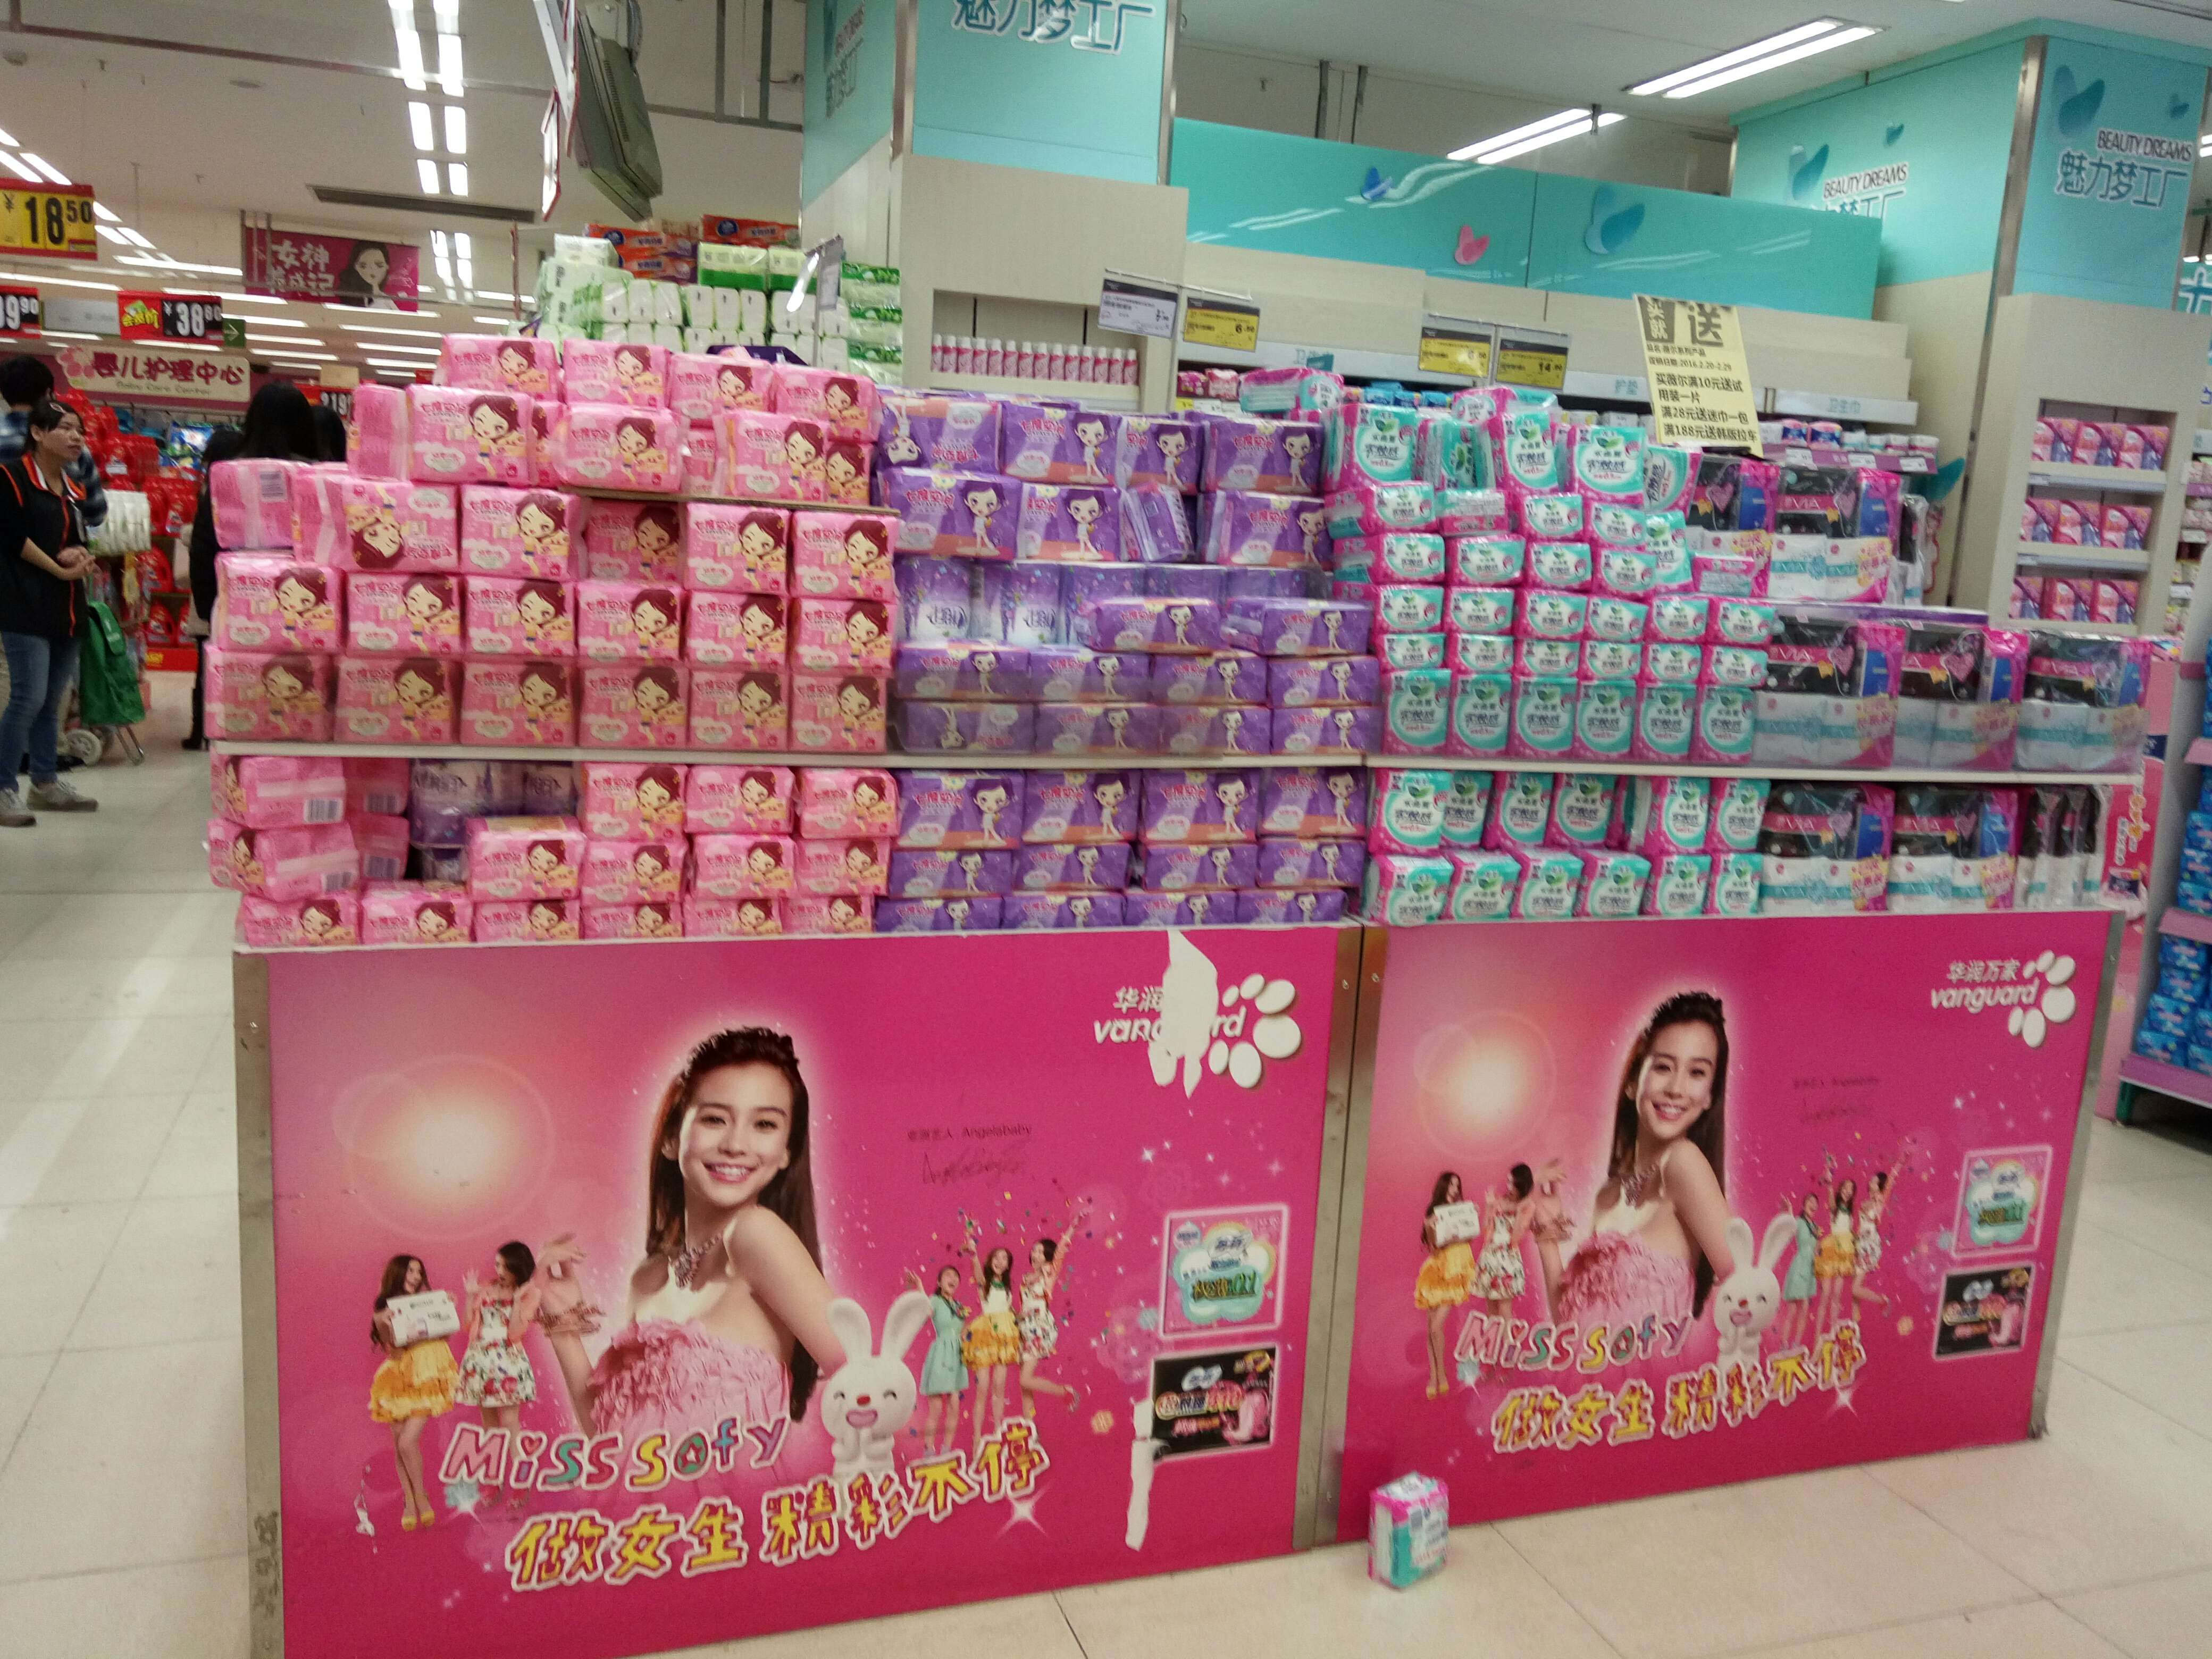product: (1895, 619, 2026, 760), (2027, 629, 2149, 774), (1778, 613, 1890, 767), (1768, 786, 1890, 917), (1895, 786, 2020, 910), (197, 652, 329, 739), (218, 561, 341, 650), (408, 396, 535, 481), (458, 486, 573, 579), (789, 511, 897, 601), (329, 662, 451, 742), (458, 664, 575, 748), (577, 664, 688, 751), (557, 406, 676, 488), (1005, 399, 1116, 484), (462, 579, 575, 662), (2027, 784, 2107, 901), (878, 390, 998, 467), (900, 472, 1010, 556), (341, 490, 455, 570), (345, 570, 453, 653), (895, 774, 1021, 845), (683, 504, 787, 589), (1211, 411, 1317, 491), (787, 669, 887, 755), (458, 823, 573, 896), (1139, 769, 1258, 838), (585, 497, 679, 584), (221, 756, 343, 823), (578, 584, 681, 662), (679, 591, 786, 666), (1024, 767, 1132, 840), (691, 669, 787, 751), (580, 762, 679, 840), (1019, 486, 1120, 563), (1324, 406, 1425, 481), (730, 416, 822, 498), (895, 701, 1035, 755), (233, 828, 355, 889), (683, 767, 794, 833), (1038, 702, 1160, 762), (1085, 596, 1216, 650), (207, 457, 282, 551), (1219, 495, 1324, 561), (441, 329, 557, 389), (1233, 599, 1369, 650), (561, 340, 667, 404), (899, 645, 1029, 697), (794, 601, 897, 666), (1118, 408, 1200, 484), (1266, 769, 1360, 835), (1372, 770, 1446, 854), (796, 767, 888, 833), (1163, 702, 1268, 760), (977, 566, 1057, 641), (691, 836, 791, 896), (1033, 652, 1150, 701), (1258, 835, 1366, 887), (583, 842, 681, 899), (900, 559, 970, 640), (777, 359, 873, 416), (239, 904, 359, 950), (1266, 657, 1378, 706), (1270, 713, 1381, 762), (1573, 423, 1646, 497), (1151, 653, 1261, 702), (1127, 484, 1198, 559), (1512, 680, 1576, 762), (1696, 685, 1761, 765), (796, 836, 888, 892), (672, 352, 770, 404), (287, 462, 340, 559), (1144, 842, 1256, 885), (890, 852, 1010, 892), (1639, 681, 1696, 765), (1578, 680, 1635, 763), (348, 385, 401, 476), (1012, 845, 1129, 885), (1388, 673, 1447, 751), (362, 903, 477, 943), (1496, 416, 1557, 491), (1451, 678, 1510, 755), (1007, 889, 1123, 927), (1585, 849, 1649, 917), (1702, 451, 1770, 516), (411, 762, 495, 814), (1379, 864, 1453, 924), (1127, 887, 1235, 927), (1238, 890, 1350, 927), (341, 756, 408, 817), (1778, 469, 1844, 530), (1521, 854, 1580, 922), (1494, 767, 1547, 843), (1710, 781, 1766, 852), (1555, 769, 1609, 842), (1829, 537, 1890, 601), (1238, 362, 1324, 408), (1350, 486, 1435, 532), (1656, 849, 1710, 920), (1456, 857, 1517, 920), (1449, 535, 1526, 584), (779, 897, 871, 938), (1651, 779, 1705, 847), (1773, 530, 1827, 598), (874, 901, 1003, 929), (479, 901, 577, 938), (583, 904, 681, 941), (1374, 535, 1447, 582), (1646, 441, 1702, 502), (678, 423, 726, 493), (683, 901, 775, 938), (1446, 586, 1512, 636), (1517, 591, 1583, 641), (1855, 467, 1902, 537), (1447, 769, 1487, 849), (1374, 586, 1442, 633), (1712, 854, 1763, 917), (1423, 422, 1475, 481), (1651, 512, 1691, 589), (1522, 495, 1583, 542), (1527, 544, 1590, 589), (824, 444, 869, 505), (1585, 500, 1649, 542), (1442, 490, 1507, 532), (1712, 596, 1771, 641), (523, 760, 573, 812), (1702, 647, 1770, 685), (1592, 547, 1649, 592), (1695, 552, 1754, 596), (1651, 596, 1707, 641), (1587, 596, 1646, 638), (1514, 641, 1580, 678), (1580, 640, 1641, 676), (1449, 640, 1512, 674), (1378, 634, 1440, 669), (1642, 645, 1700, 678), (1451, 385, 1501, 420)
